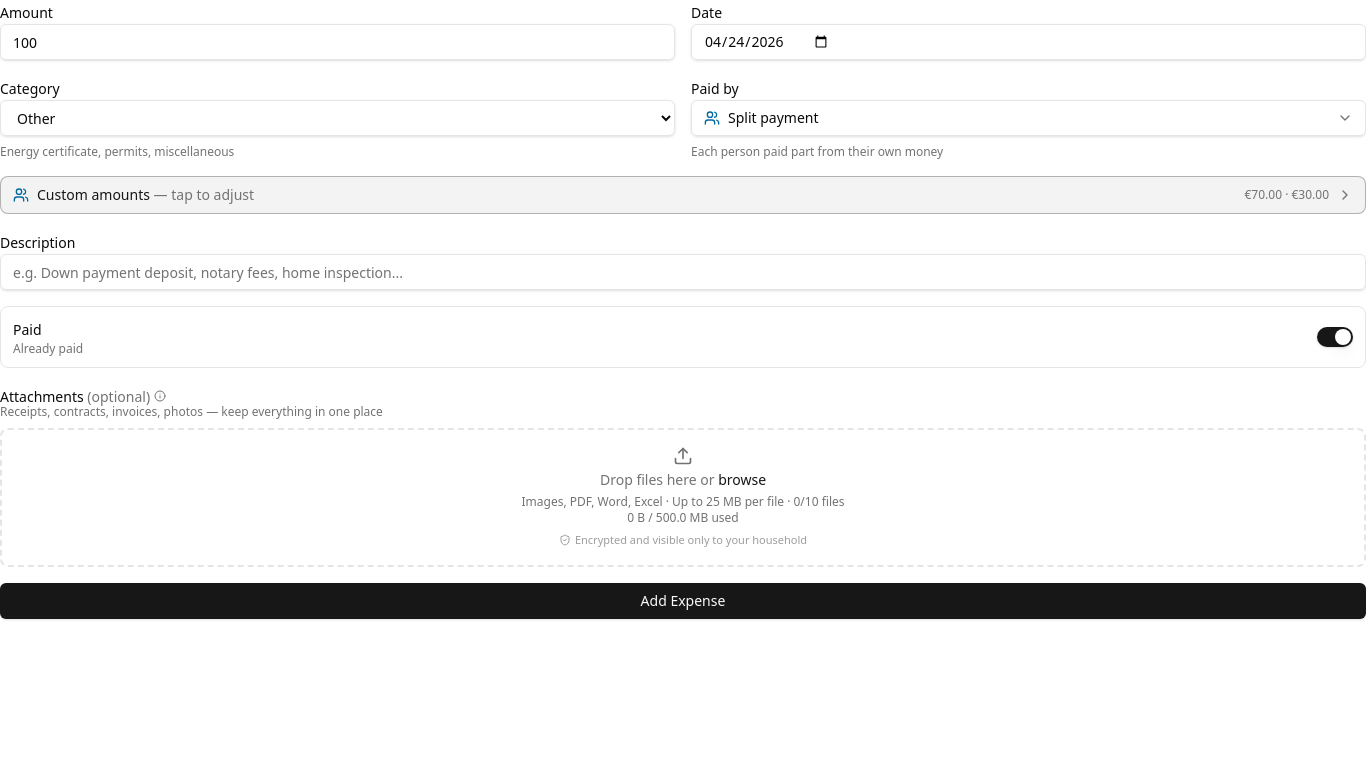
Scenario: ExpenseForm split chip › clears splits on amount change and shows a reopen notice
Expected: the text "Custom amounts" is shown, x1=37 y1=185 x2=150 y2=204
// Changing the amount clears the stale splits and surfaces a notice
Replace the text in the number field with id "amount" with "200" at (338,42), box x1=0 y1=24 x2=675 y2=60
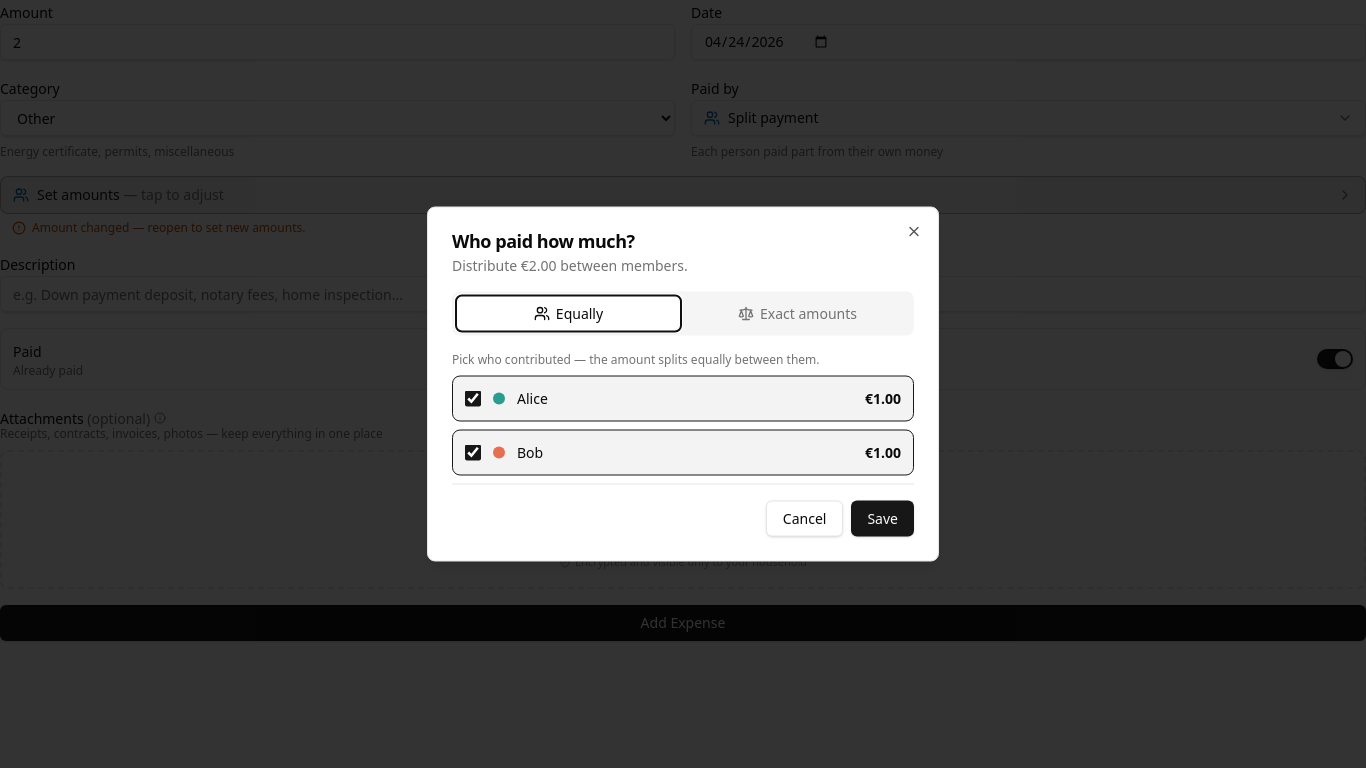
Expected: the button "Custom amounts" is not shown
Result: the text "Amount changed — reopen to set new amounts." is shown at x1=12 y1=219 x2=306 y2=236
